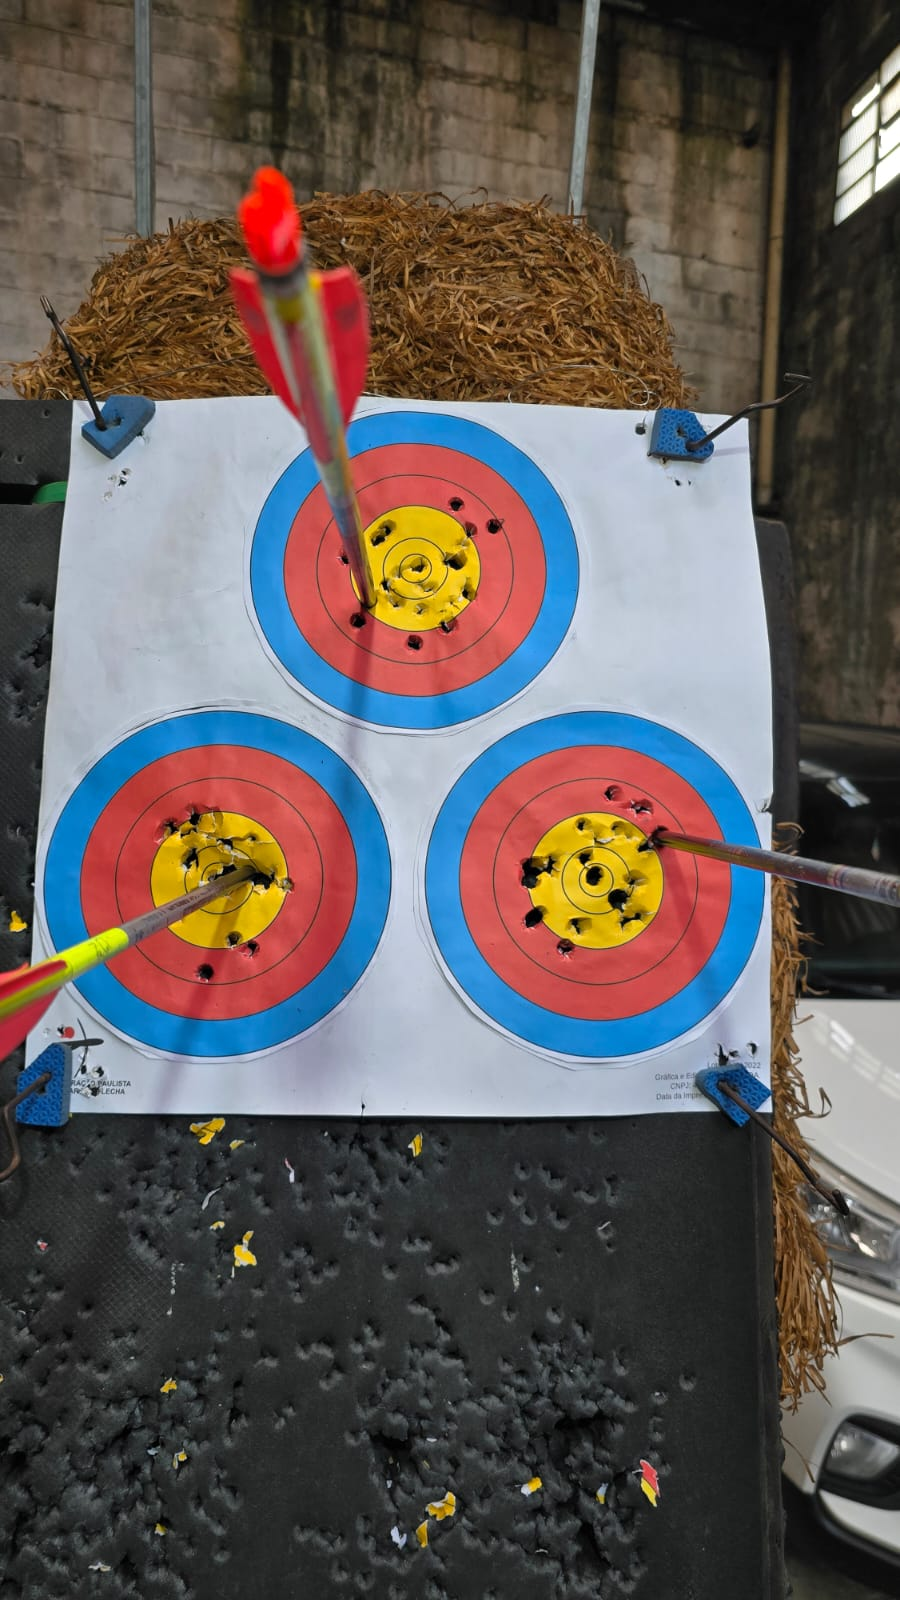8: (444, 723, 766, 1067)
9: (277, 434, 602, 718)
9 linha 10: (66, 721, 405, 1056)
